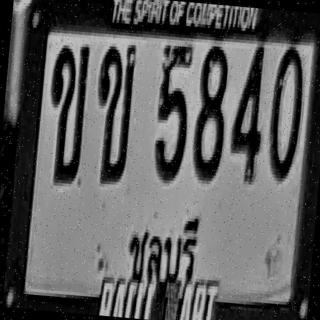A02: (43, 41, 90, 184), (90, 41, 137, 184)
N00: (266, 43, 307, 179)
N04: (228, 42, 269, 182)
N05: (152, 42, 194, 182)
N08: (191, 42, 232, 182)
P13: (122, 210, 202, 287)
